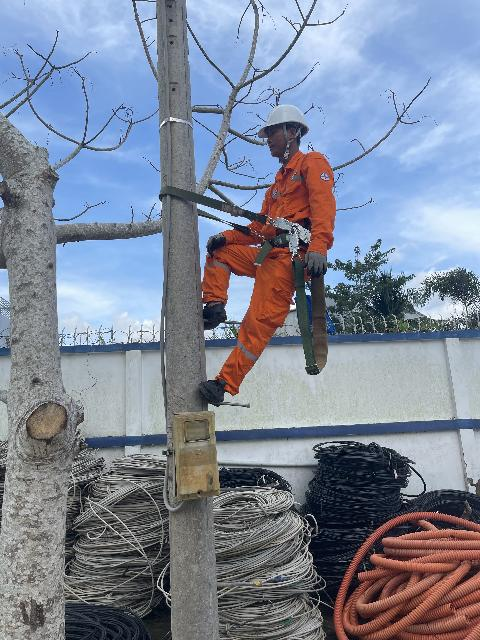gloves: (190, 227, 233, 257), (304, 250, 333, 279)
harness: (226, 202, 323, 258)
helmet: (248, 102, 315, 142)
shoes: (190, 300, 242, 338), (184, 378, 235, 415)
